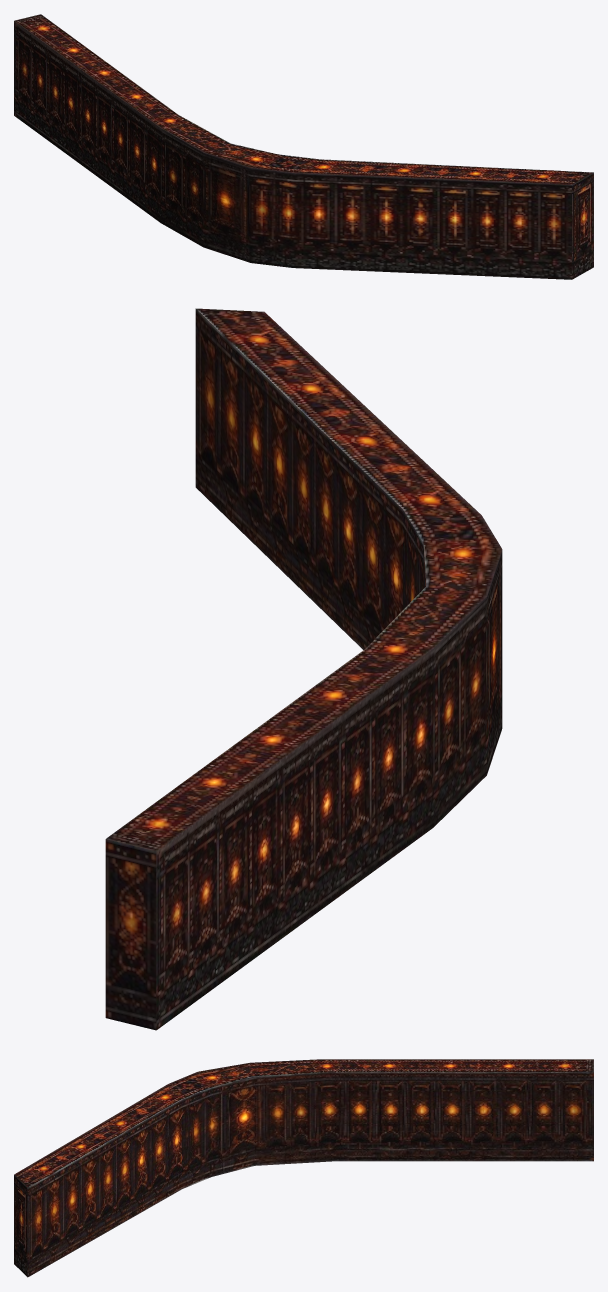
Rendered from ramp_pale_down_left_death_lvl_3.glb.
The picture shows the model from 3 angles, top to bottom: view 1: azimuth 30°, elevation 25°; view 2: azimuth 150°, elevation 25°; view 3: azimuth 270°, elevation 25°; orthographic projection. The views are drawn at different scales.
Parts seen in each view (by area): view 1: Mesh_0.006; view 2: Mesh_0.006; view 3: Mesh_0.006.
Part boxes in pixels (x1,y1,x2,y2): Mesh_0.006: (14,14,593,279); Mesh_0.006: (105,308,502,1030); Mesh_0.006: (14,1059,593,1277).
Size of the model in its own units: 0.1275 by 0.0414 by 0.2431.
Materials: 1 (1 with a texture image).
